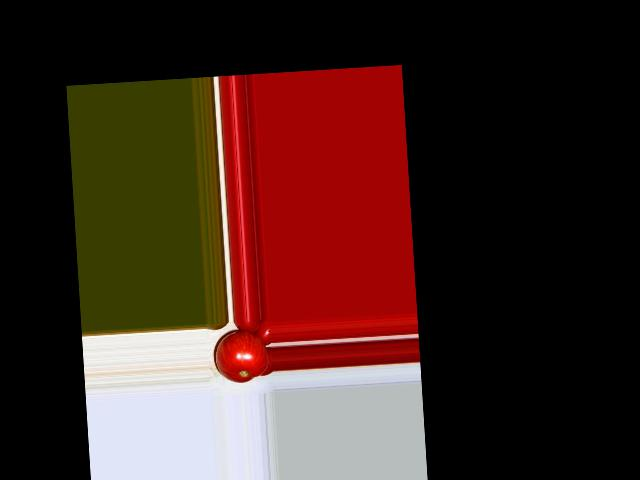tomato: (213, 328, 270, 384)
